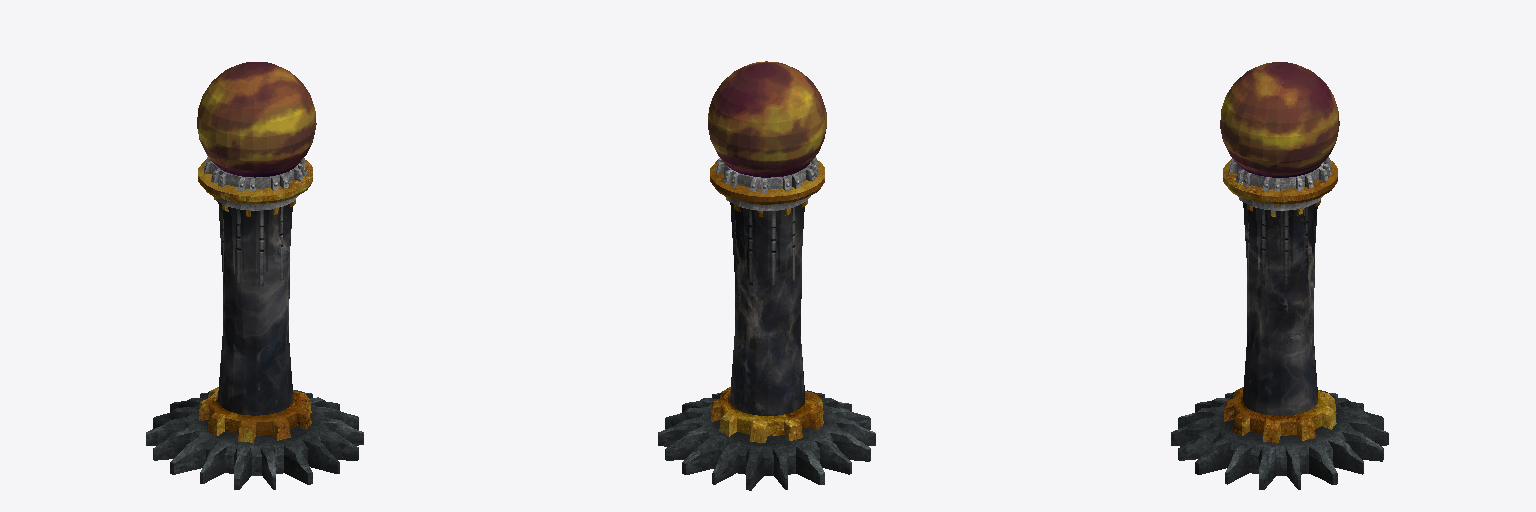
3 renders of one model, left to right at view 1: azimuth 30°, elevation 25°; view 2: azimuth 150°, elevation 25°; view 3: azimuth 270°, elevation 25°, orthographic.
Visible parts, largest first — view 1: Cylinder001; view 2: Cylinder001; view 3: Cylinder001.
Boxes of the visible parts, x1=… form: Cylinder001: x1=146, y1=62, x2=363, y2=489; Cylinder001: x1=658, y1=61, x2=875, y2=490; Cylinder001: x1=1171, y1=62, x2=1388, y2=489.
Size of the model in its own units: 143 by 276 by 144.
Materials: 1 (1 with a texture image).